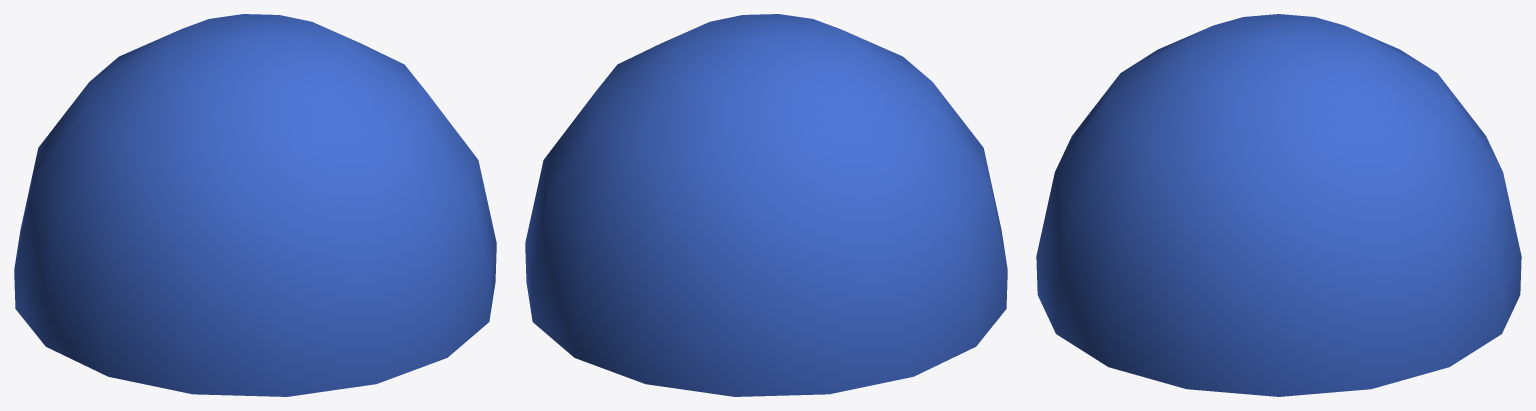
The model's file is SkyDome.fbx.
3 renders of one model, left to right at view 1: azimuth 30°, elevation 25°; view 2: azimuth 150°, elevation 25°; view 3: azimuth 270°, elevation 25°, orthographic.
Visible parts, largest first — view 1: SkyDome; view 2: SkyDome; view 3: SkyDome.
Part boxes in pixels (bbox=[...]): SkyDome: bbox=[14, 14, 496, 396]; SkyDome: bbox=[525, 14, 1007, 396]; SkyDome: bbox=[1036, 14, 1521, 396].
Size of the model in its own units: 62100 by 36501 by 62100.
